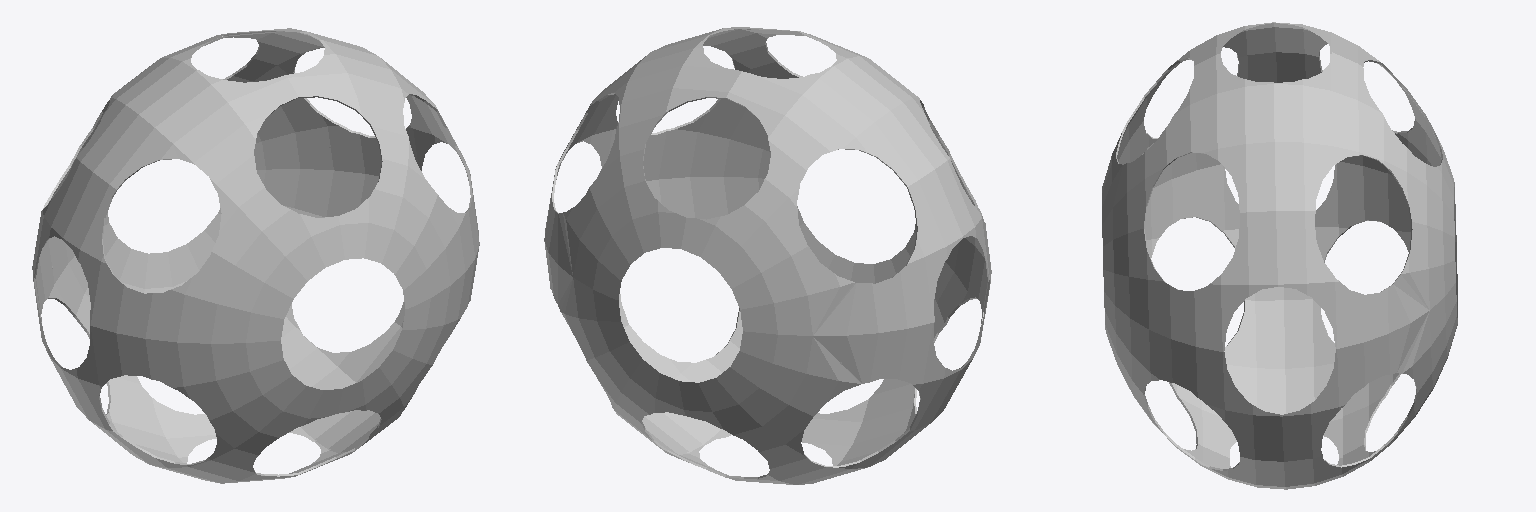
File: Coin_ball_bigger.obj
3 renders of one model, left to right at view 1: azimuth 30°, elevation 25°; view 2: azimuth 150°, elevation 25°; view 3: azimuth 270°, elevation 25°, orthographic.
Parts seen in each view (by area): view 1: pSphere14; view 2: pSphere14; view 3: pSphere14.
Boxes of the visible parts, x1=… form: pSphere14: x1=32, y1=28, x2=479, y2=483; pSphere14: x1=544, y1=27, x2=991, y2=484; pSphere14: x1=1102, y1=22, x2=1457, y2=489.
Size of the model in its own units: 0.4664 by 0.4673 by 0.3701.